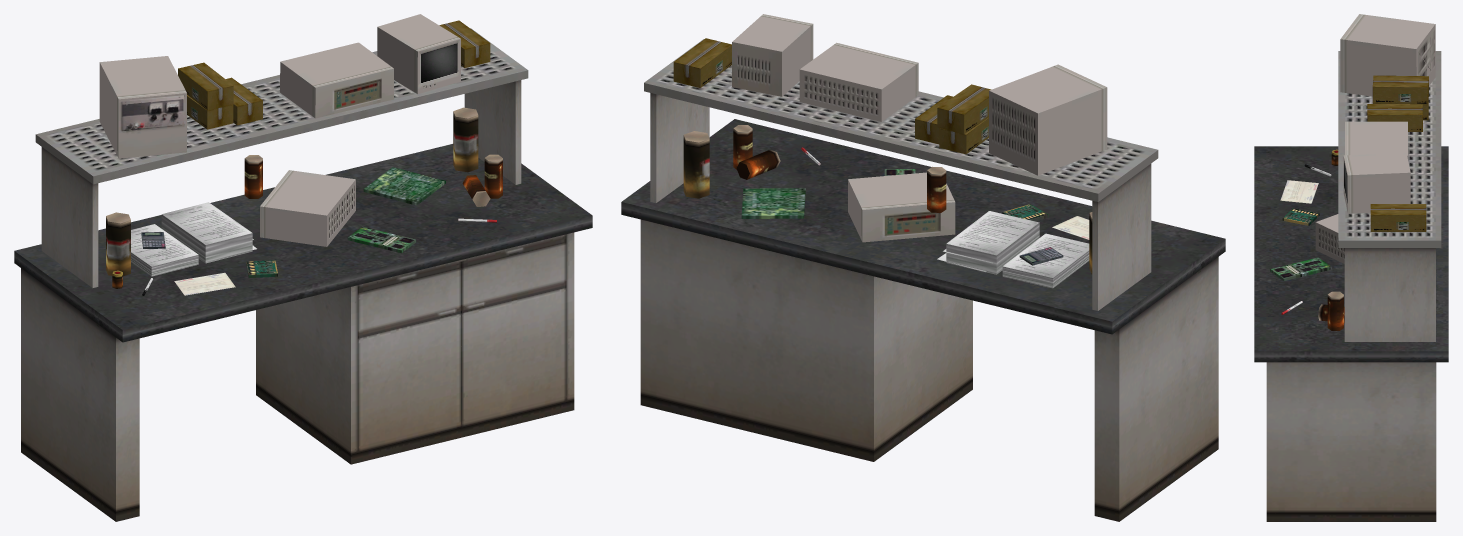
The model's file is labdesk4.fbx.
3 renders of one model, left to right at view 1: azimuth 30°, elevation 25°; view 2: azimuth 150°, elevation 25°; view 3: azimuth 270°, elevation 25°, orthographic. The views are drawn at different scales.
Visible parts, largest first — view 1: mesh_0; view 2: mesh_0; view 3: mesh_0.
Part boxes in pixels (bbox=[...]): mesh_0: bbox=[14, 14, 592, 521]; mesh_0: bbox=[621, 14, 1225, 521]; mesh_0: bbox=[1254, 14, 1448, 521].
Size of the model in its own units: 200 by 151 by 80.
1 material, 1 textured.
